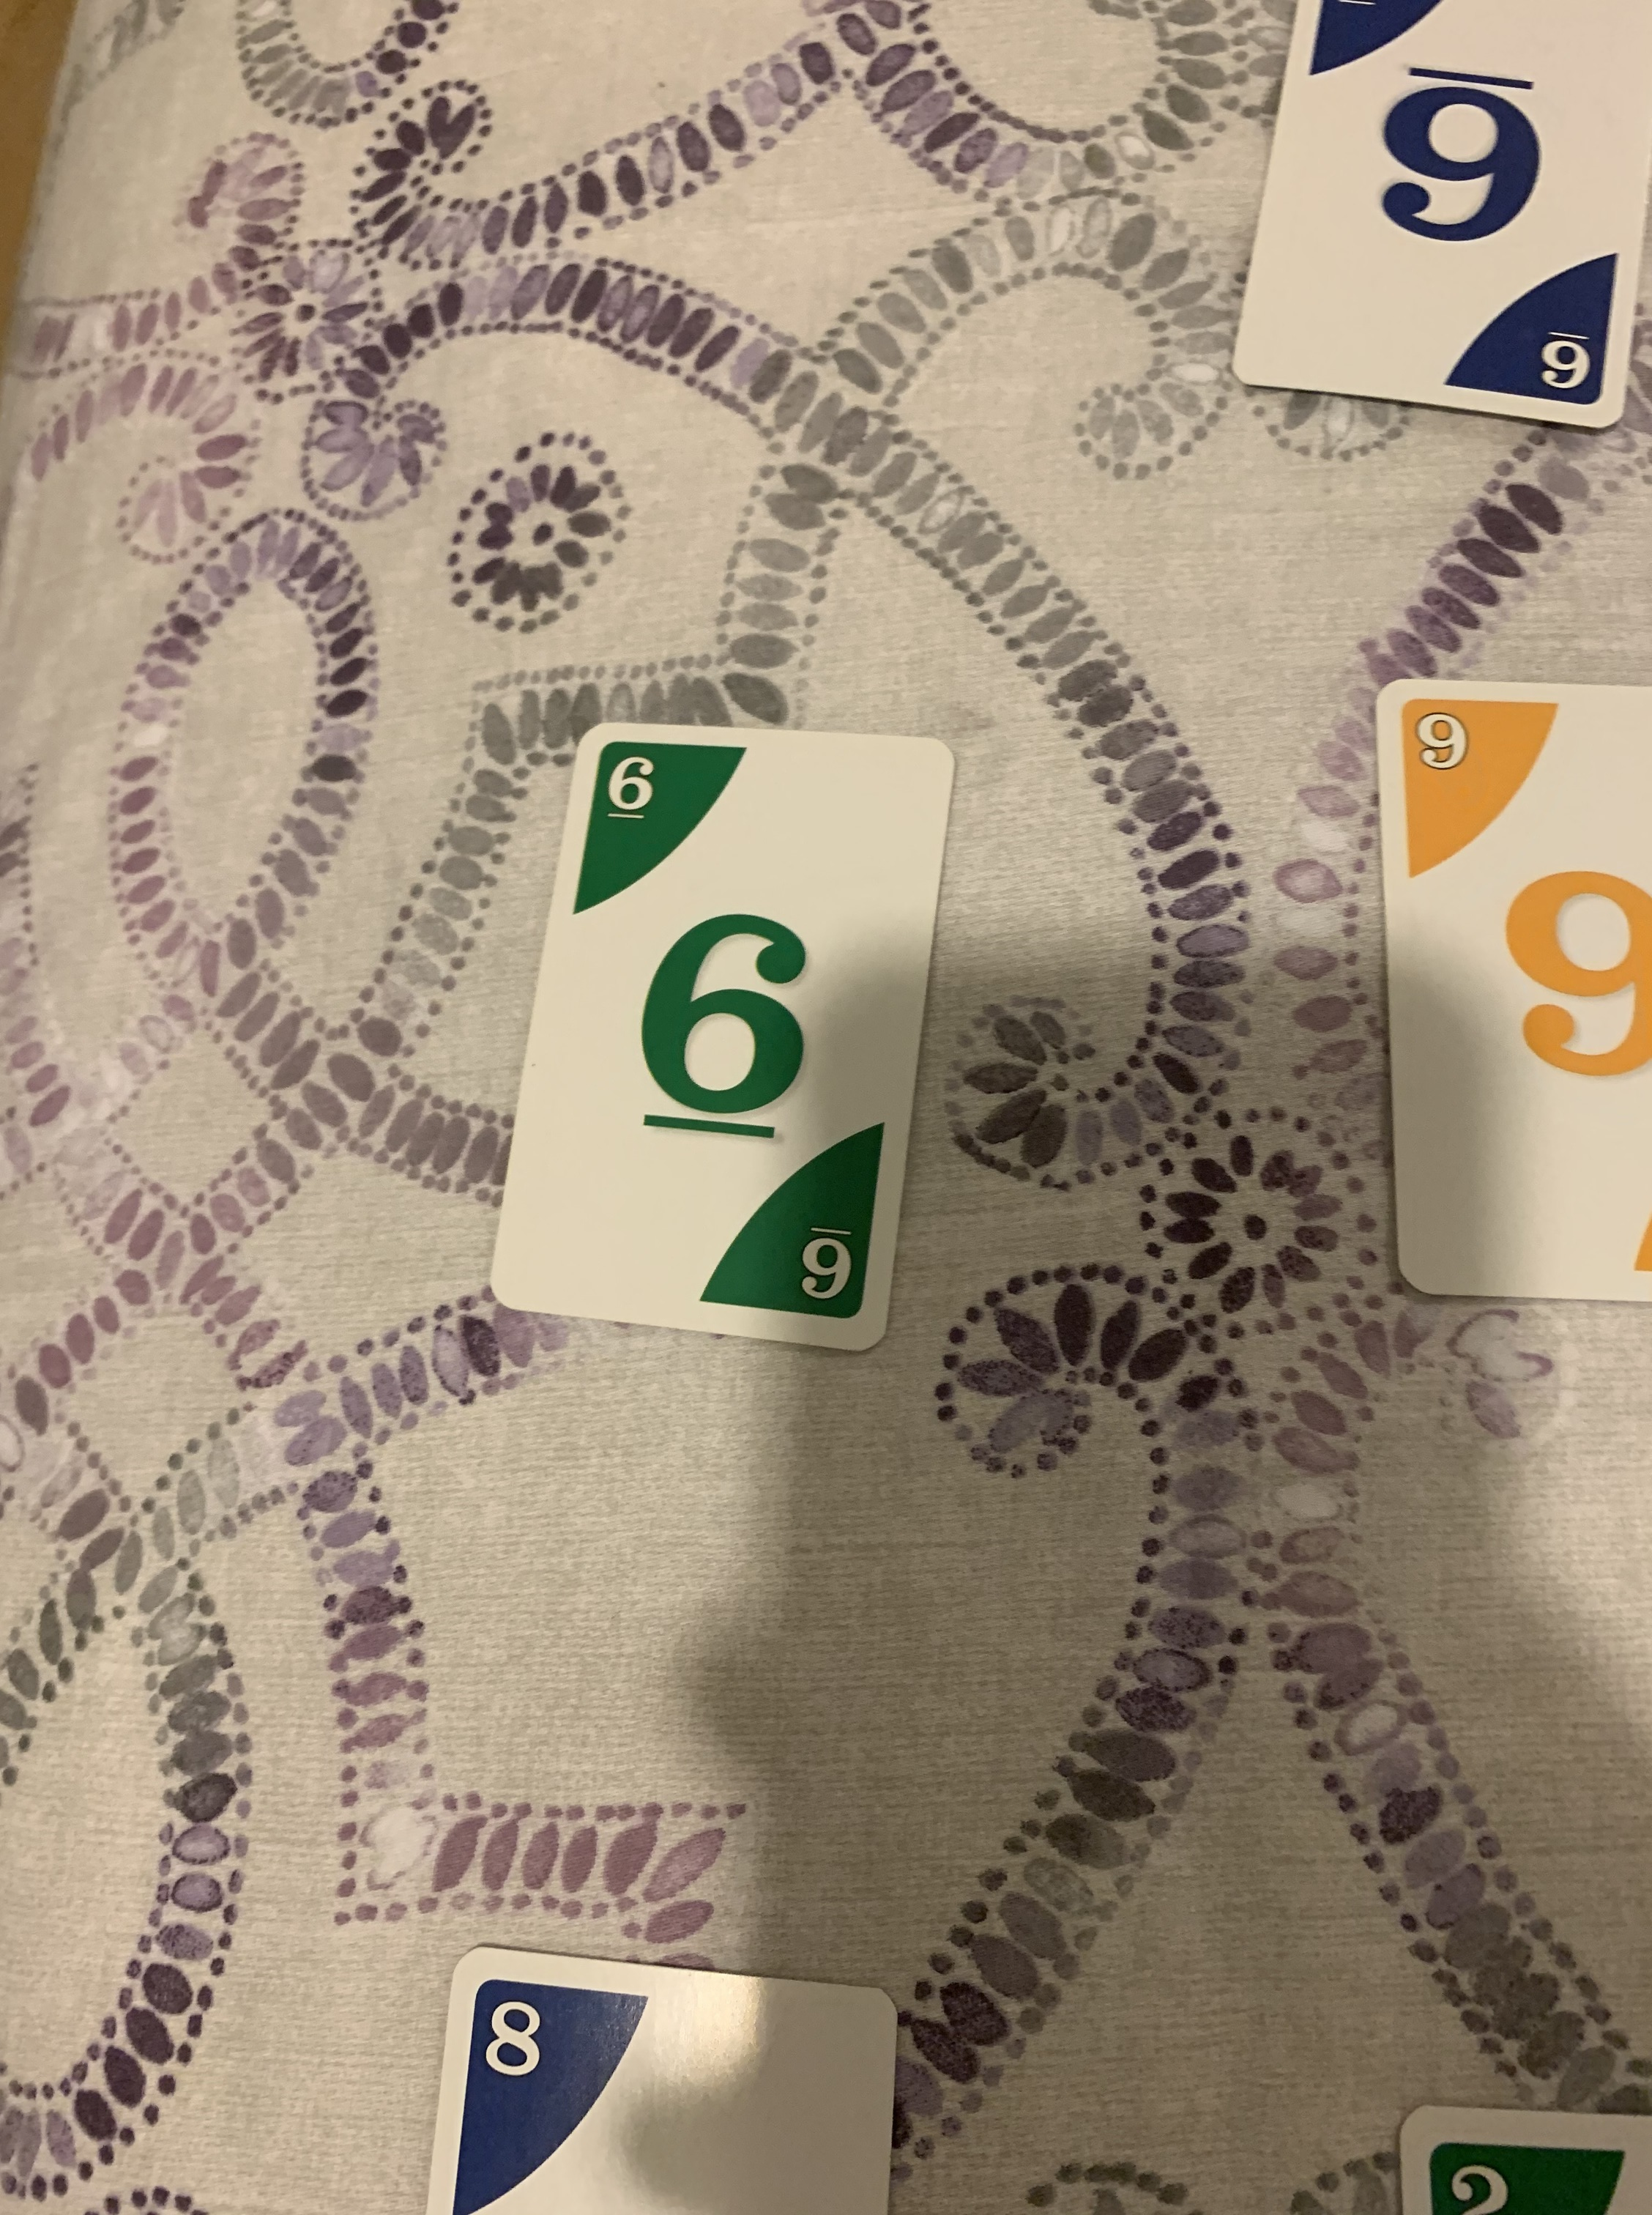nine: (1373, 675, 1652, 1323)
six: (488, 717, 958, 1352), (1225, 0, 1647, 439)
